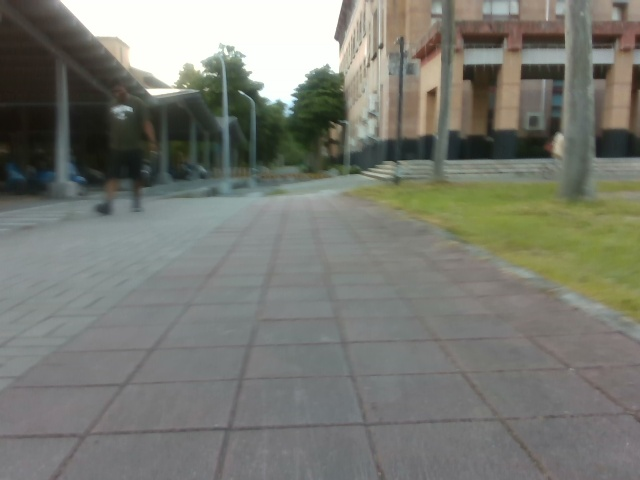grass: (291, 170, 639, 344), (139, 45, 345, 176), (559, 21, 595, 199)
road: (0, 176, 639, 479)
